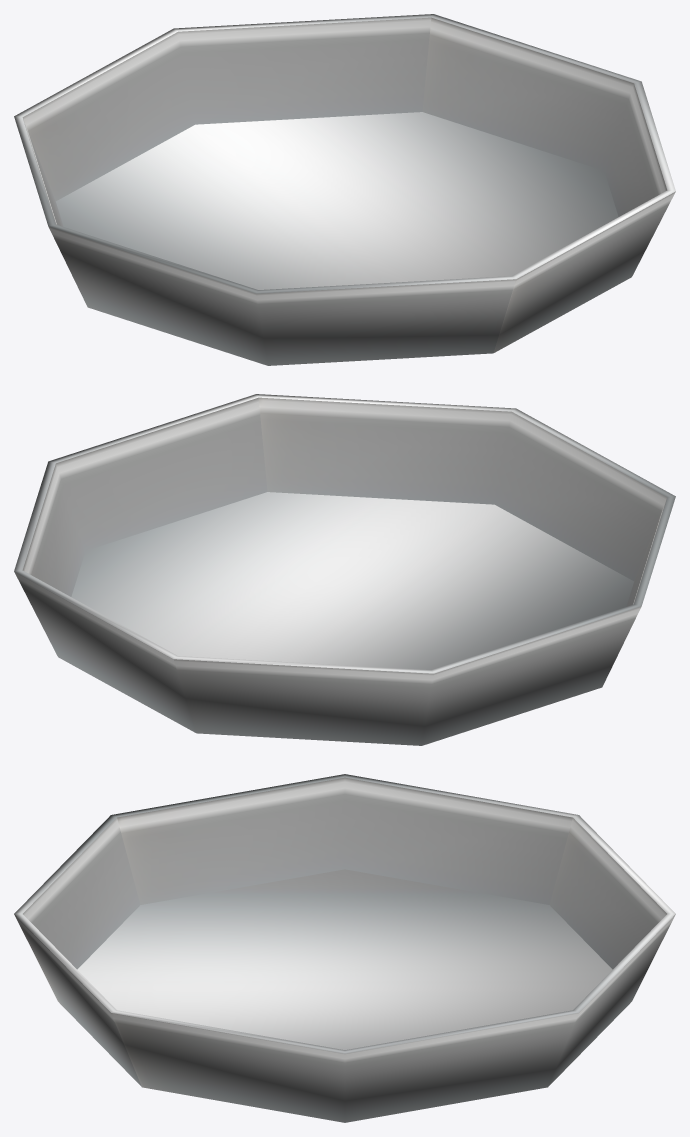
The model's file is Pie_Tin.FBX.
The picture shows the model from 3 angles, top to bottom: view 1: azimuth 30°, elevation 25°; view 2: azimuth 150°, elevation 25°; view 3: azimuth 270°, elevation 25°; orthographic projection. The views are drawn at different scales.
Visible parts, largest first — view 1: Pie_Tin; view 2: Pie_Tin; view 3: Pie_Tin.
Part boxes in pixels (x1=…): Pie_Tin: x1=14, y1=14, x2=675, y2=365; Pie_Tin: x1=14, y1=394, x2=675, y2=745; Pie_Tin: x1=14, y1=774, x2=675, y2=1122.
Bounding box in the file's own units: 111 × 16.29 × 111.
